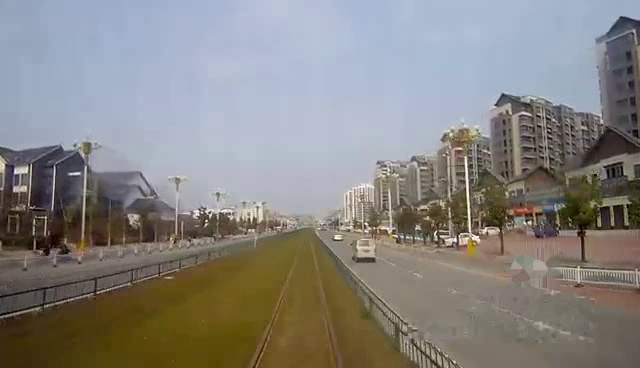car: (350, 237, 378, 265)
